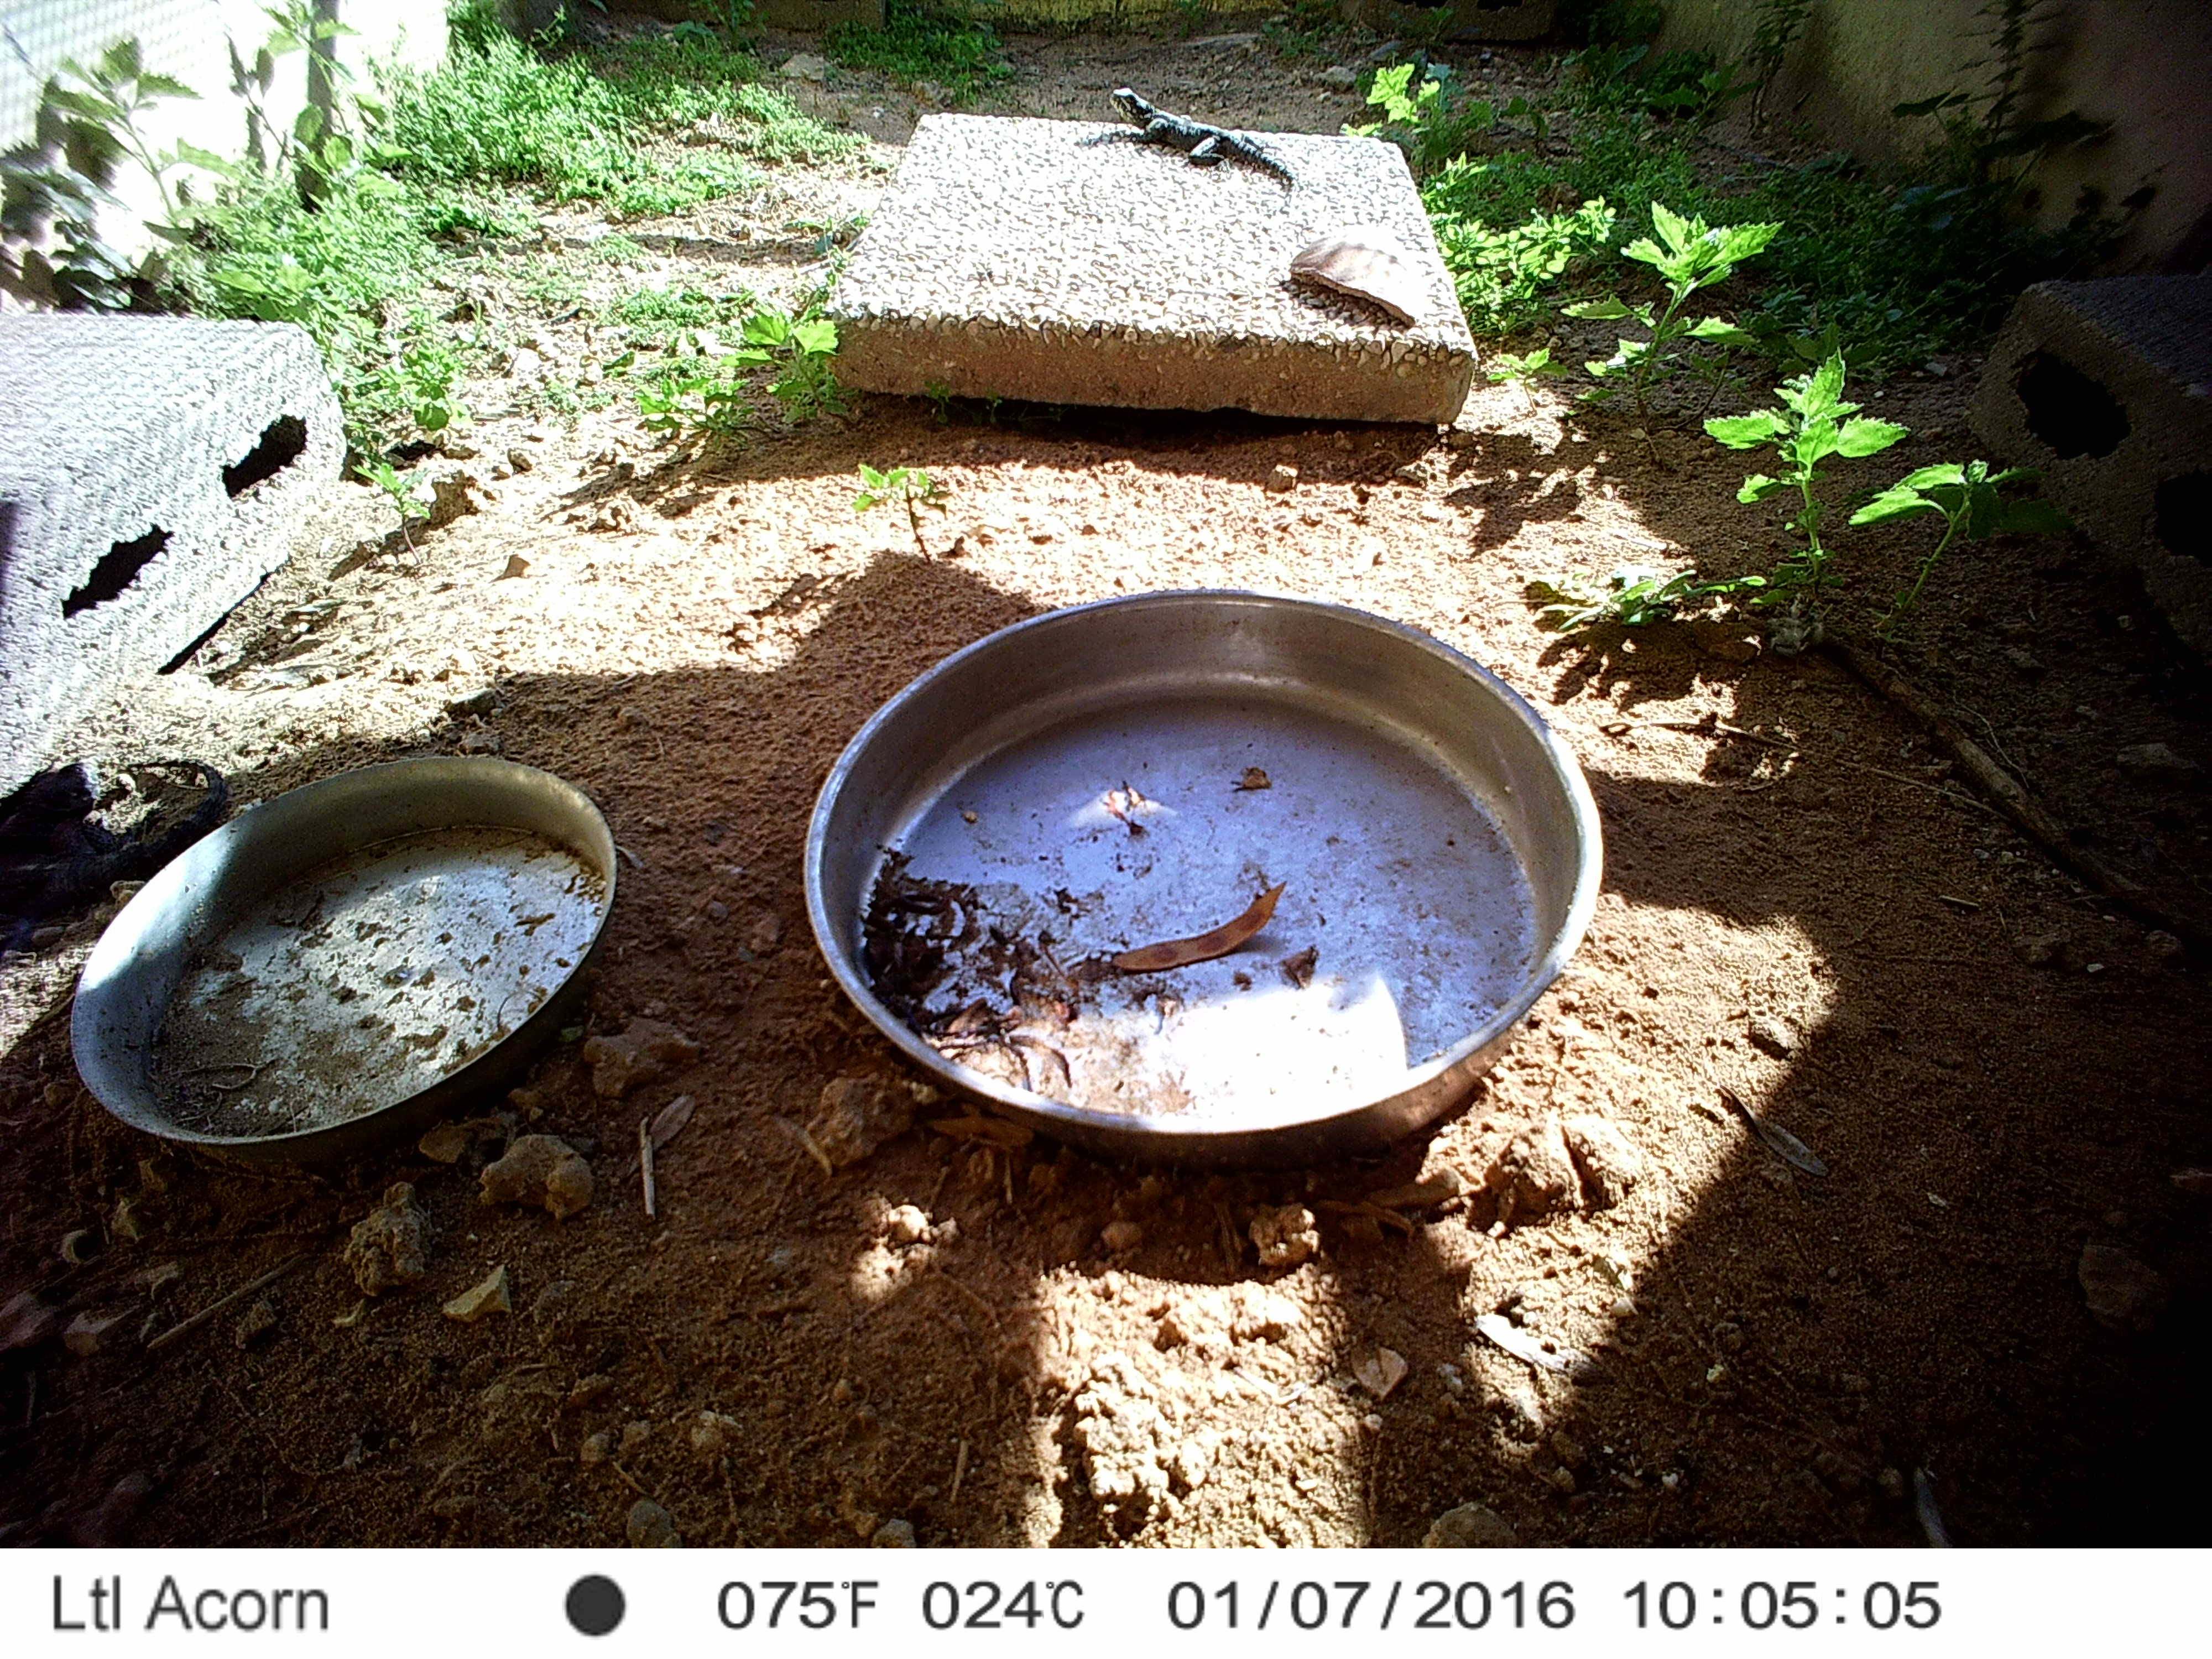lizard: (0, 742, 232, 918), (1108, 84, 1299, 195)
